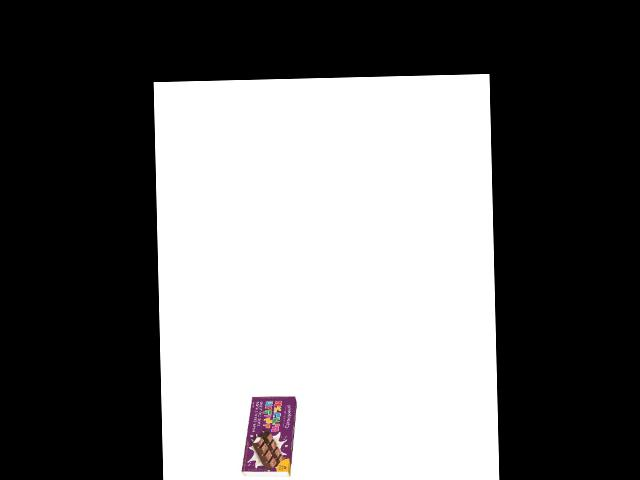chocolate: (243, 390, 298, 478)
